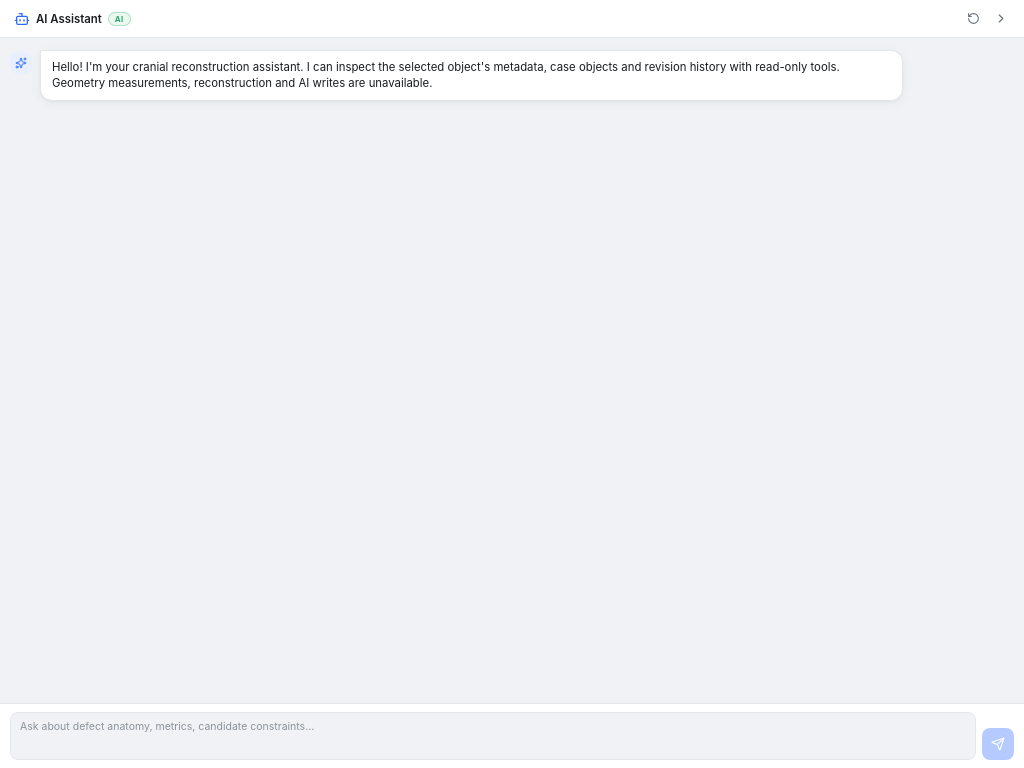
Scenario: staged proposal review card › surfaces a stale-revision rejection and keeps the card unapplied
Type "Shift it 5 mm" into the text box named "Message for AI assistant". click: (493, 736)
box: [10,712,976,760]
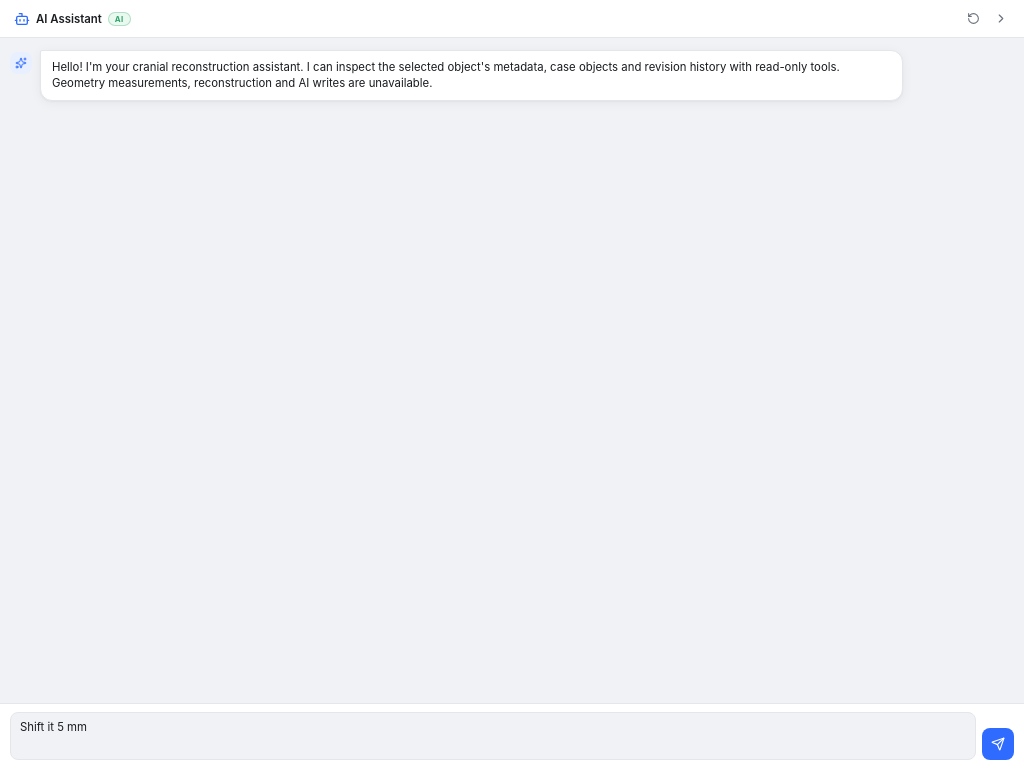
Click the button named "Send message to AI assistant". click: (998, 744)
box: [982,728,1014,760]
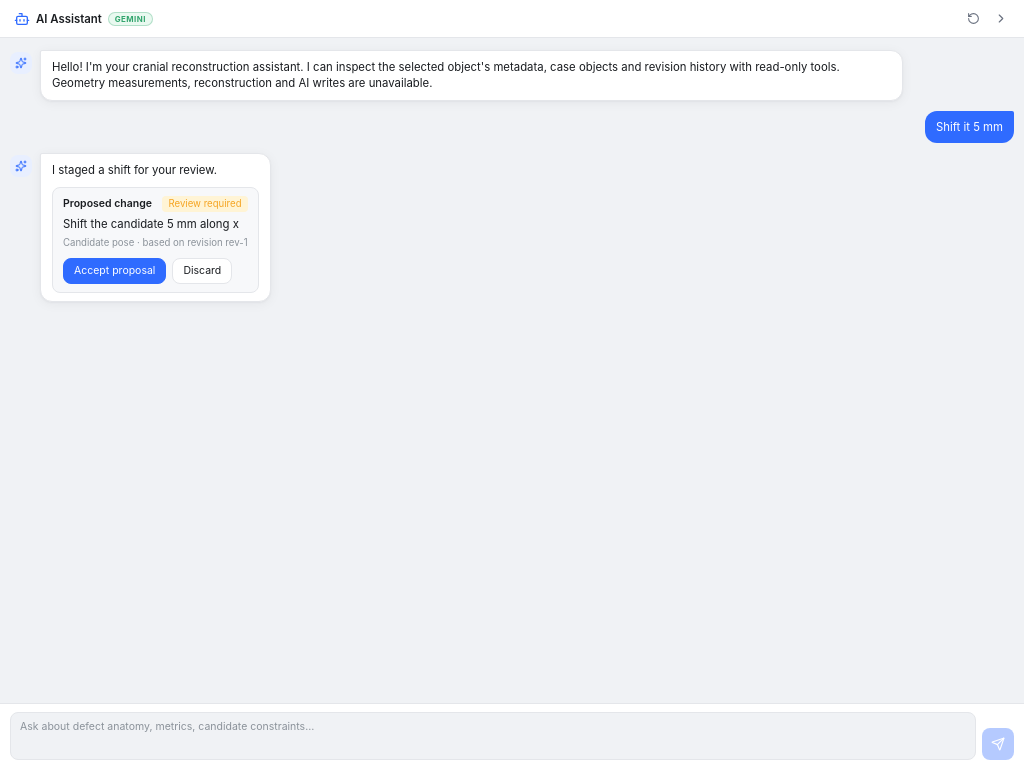
expect the element "Proposed change" is shown: met, box [52,187,259,292]
Click the button "Accept proposal". click: (115, 271)
box: [63,258,166,284]
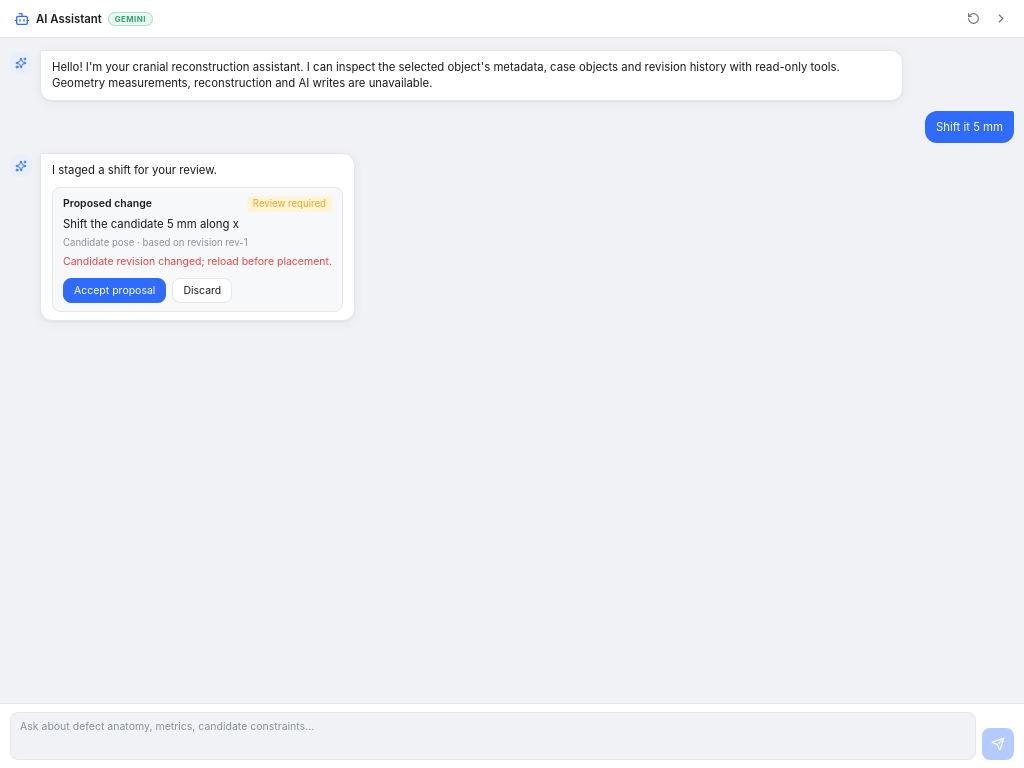
expect the text "Review required" is shown: met, box [247,196,332,212]
expect the message shows "reload before placement": met, box [63,255,332,268]
